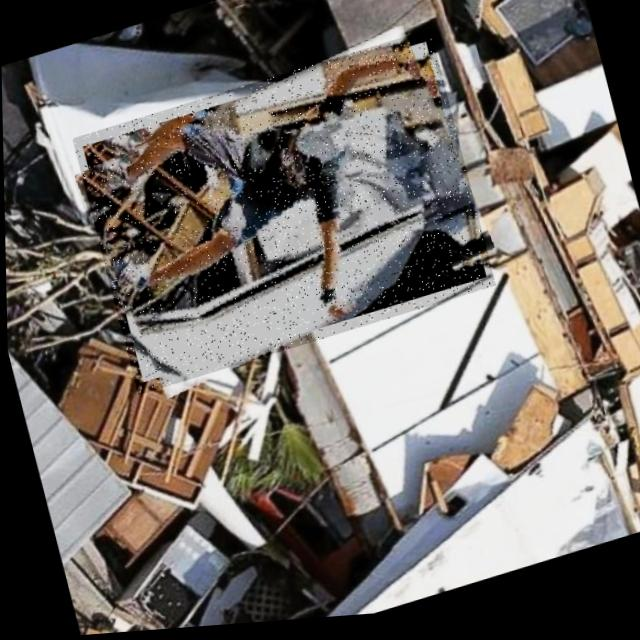Person in Rubble: (69, 32, 495, 401)
